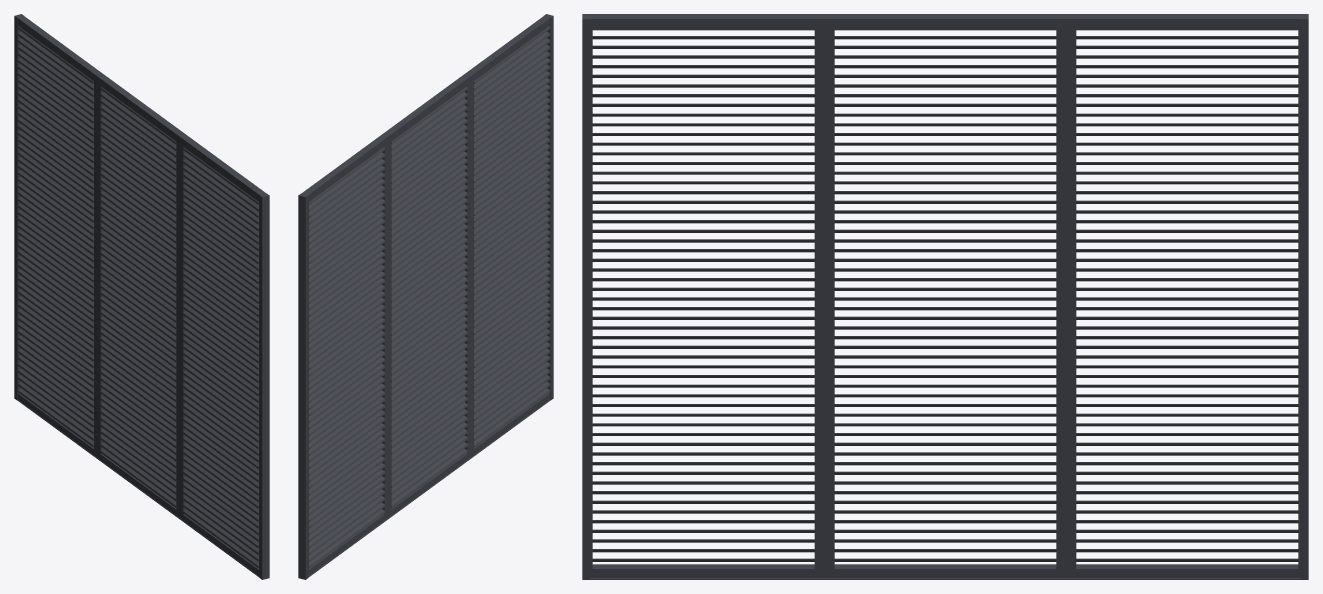
File: nebbiolo_louvre_panel_left_500_300.glb
The picture shows the model from 3 angles, left to right: view 1: azimuth 30°, elevation 25°; view 2: azimuth 150°, elevation 25°; view 3: azimuth 270°, elevation 25°; orthographic projection. The views are drawn at different scales.
Parts seen in each view (by area): view 1: louvre_panel_left_500_300; view 2: louvre_panel_left_500_300; view 3: louvre_panel_left_500_300.
Boxes of the visible parts, x1,y1,x2,y2 form: louvre_panel_left_500_300: (14,14,269,579); louvre_panel_left_500_300: (298,14,553,579); louvre_panel_left_500_300: (582,14,1308,579).
Size of the model in its own units: 0.0531 by 2.5 by 2.94.
Materials: 1 (1 with a texture image).
